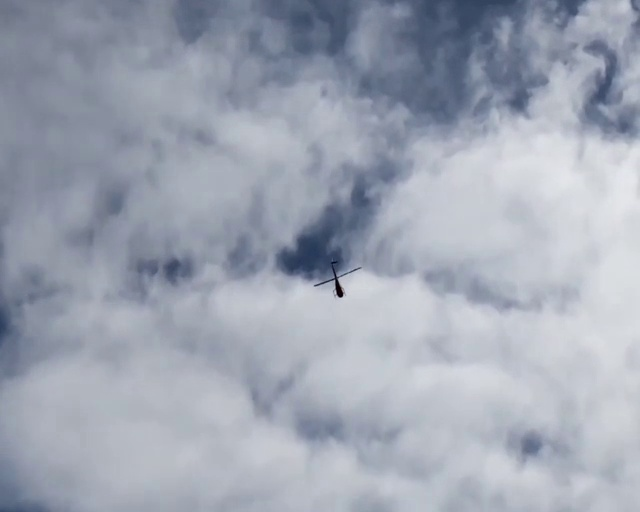HELICOPTER: (313, 257, 362, 298)
